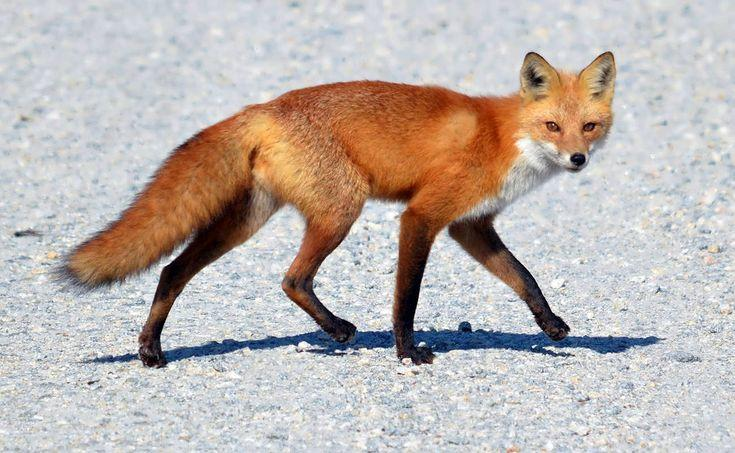fox: (64, 46, 629, 369)
